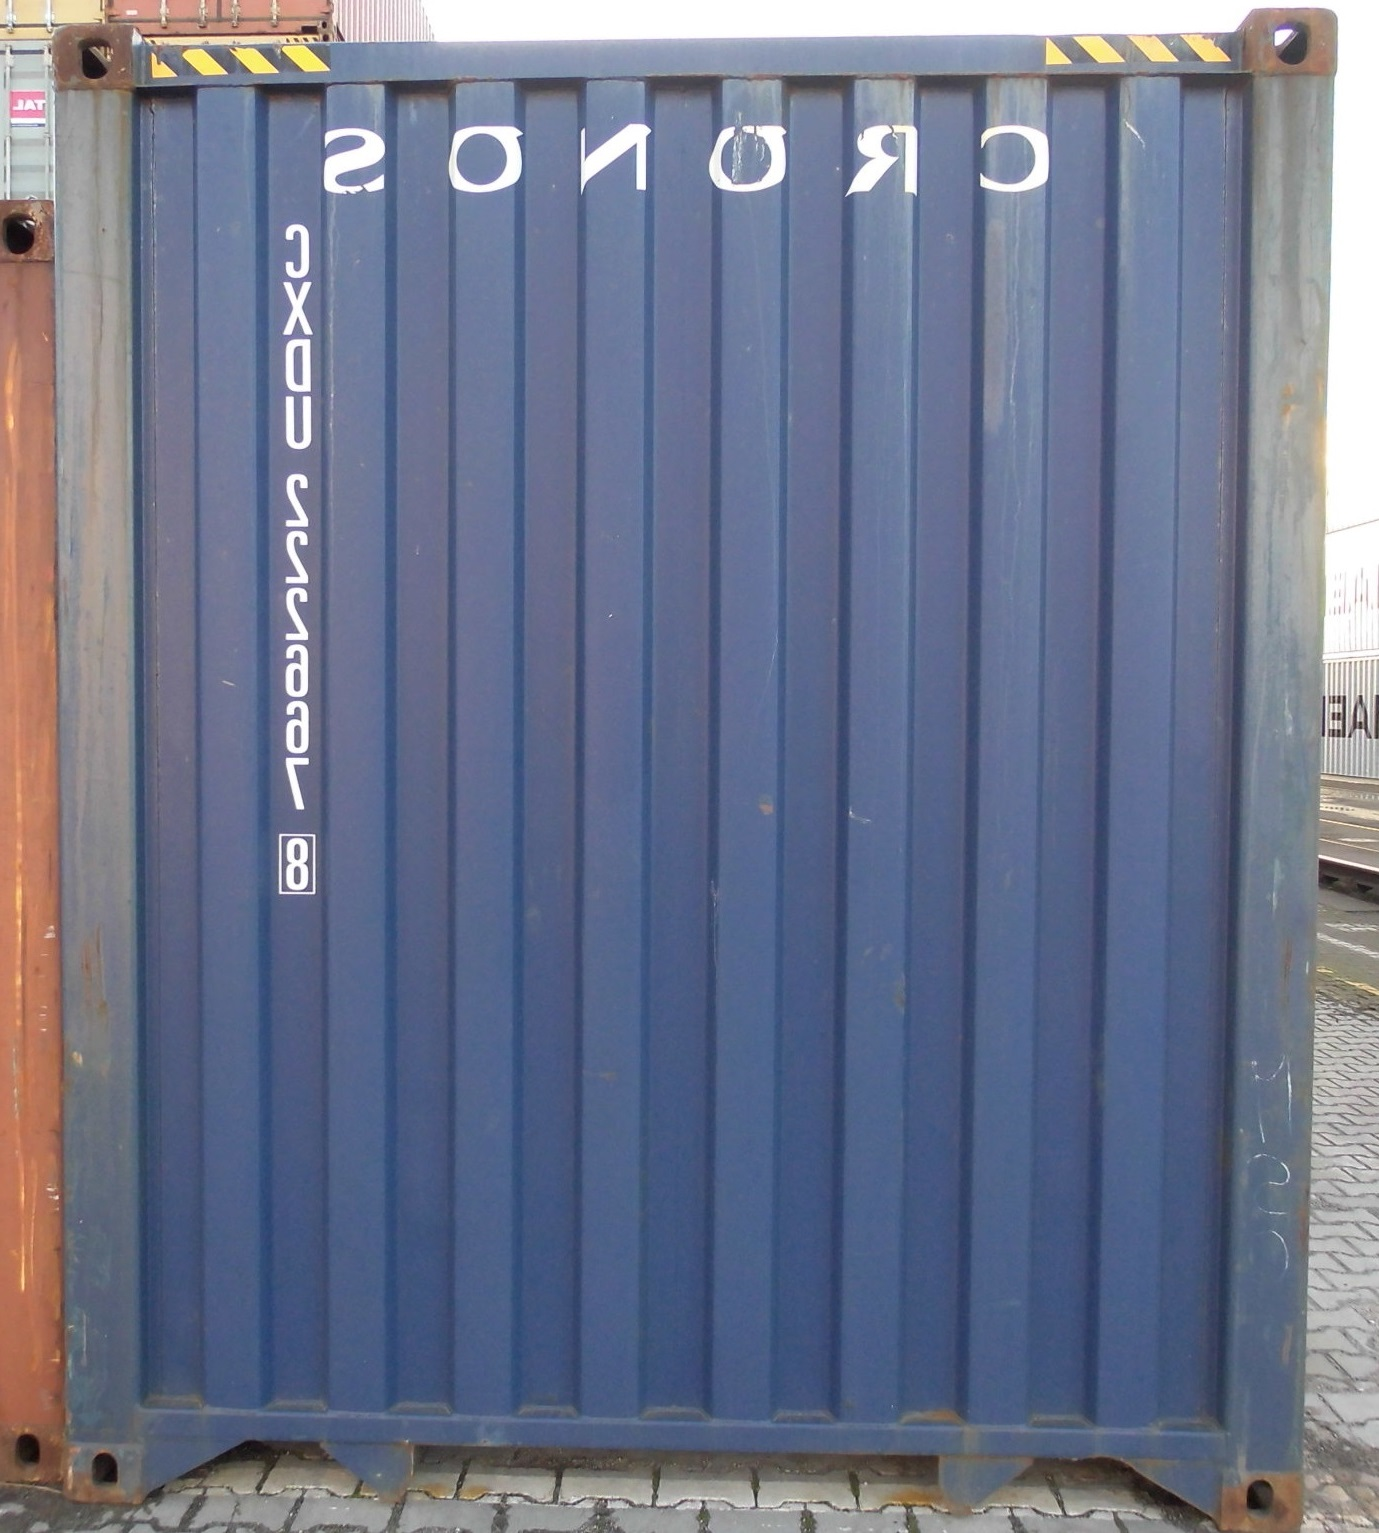container_no_door: (63, 8, 1343, 1497)
